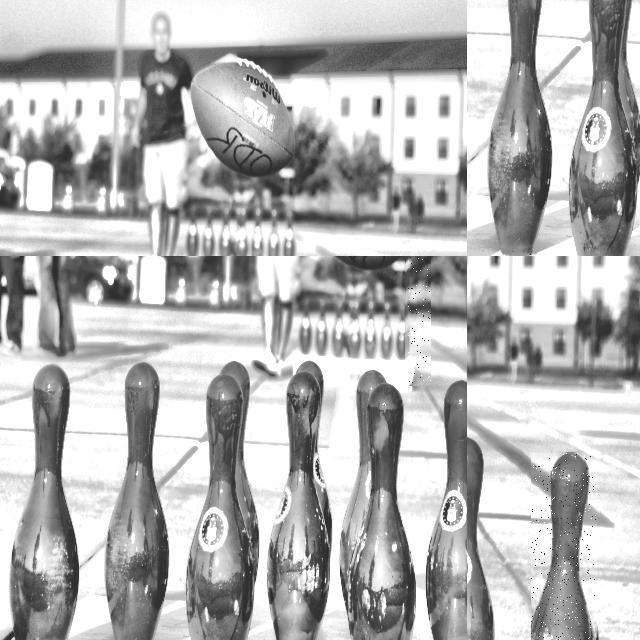bowling-pins: (531, 454, 595, 640), (467, 437, 494, 640), (351, 256, 381, 393), (378, 256, 405, 389), (408, 256, 430, 383)
